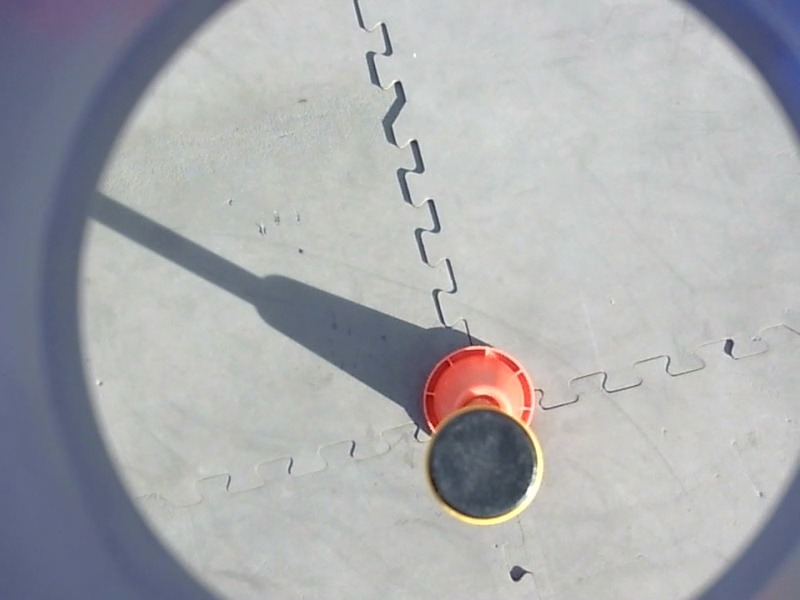tip: (415, 400, 550, 534)
